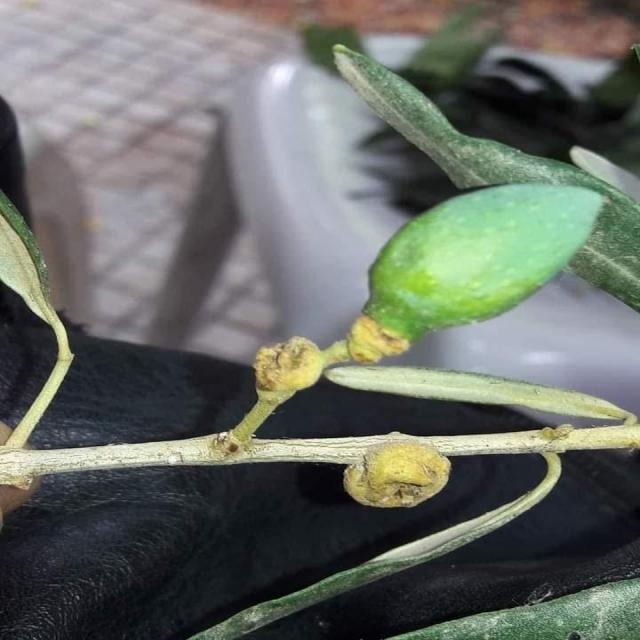Healthy: (364, 182, 602, 343)
Tuberculosis: (344, 438, 452, 508), (251, 337, 328, 414)
